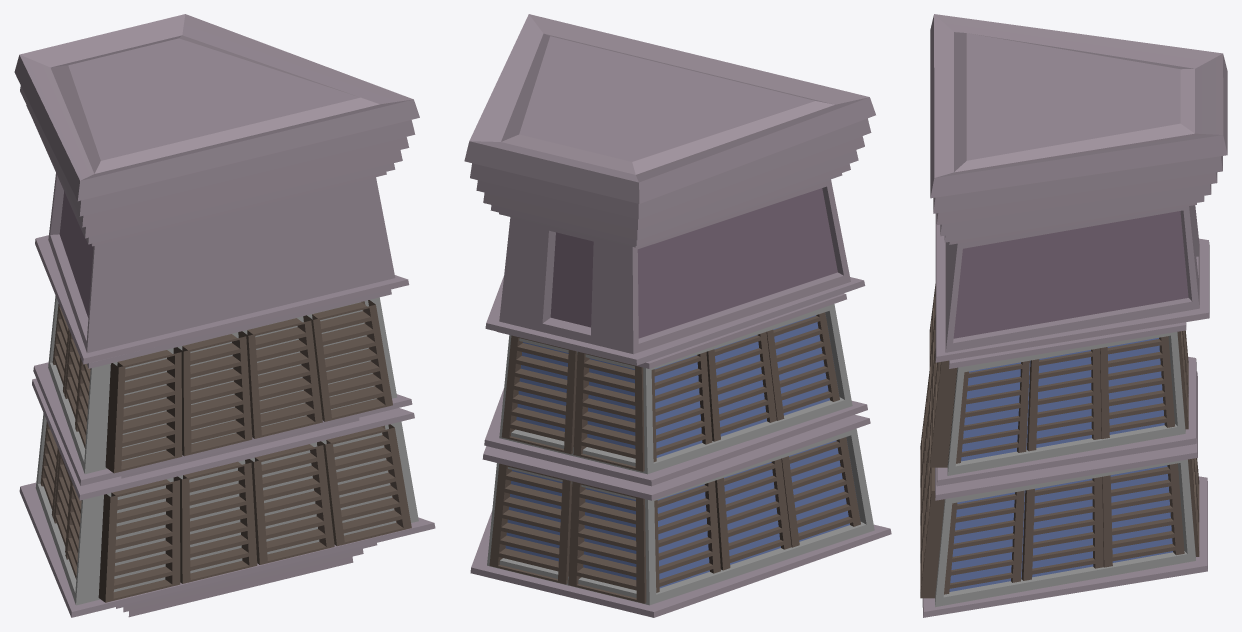
The model's file is Hotel Building #2.FBX.
3 renders of one model, left to right at view 1: azimuth 30°, elevation 25°; view 2: azimuth 150°, elevation 25°; view 3: azimuth 270°, elevation 25°, orthographic. The views are drawn at different scales.
Visible parts, largest first — view 1: Hotel Building #2; view 2: Hotel Building #2; view 3: Hotel Building #2.
Boxes of the visible parts, <box> form: Hotel Building #2: <box>14,14,435,617</box>; Hotel Building #2: <box>464,14,891,617</box>; Hotel Building #2: <box>920,14,1227,617</box>.
Size of the model in its own units: 24.8 by 30.1 by 17.96.
